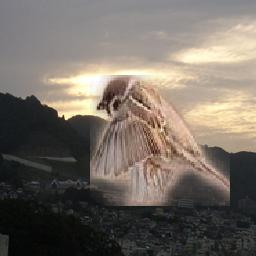Sparrow: (90, 76, 230, 207)
